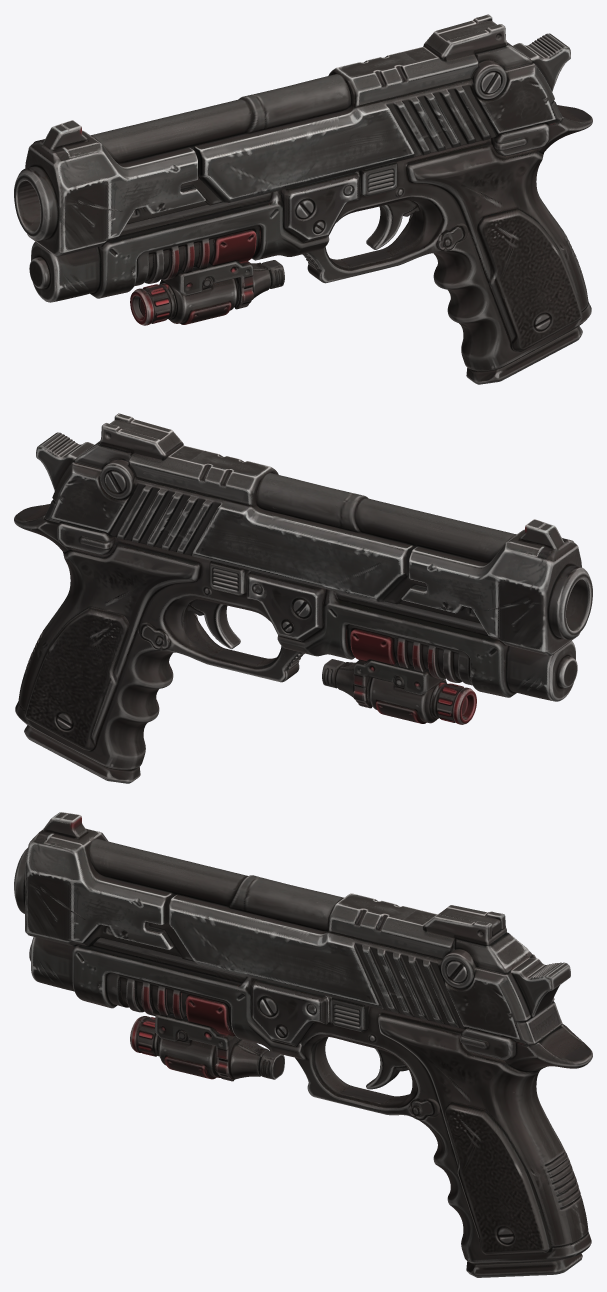
Rendered from IronPistol.glb.
3 renders of one model, top to bottom at view 1: azimuth 30°, elevation 25°; view 2: azimuth 150°, elevation 25°; view 3: azimuth 330°, elevation 25°, orthographic.
Bounding box in the file's own units: 1.9 × 1.16 × 0.2388.
Materials: 1 (1 with a texture image).
